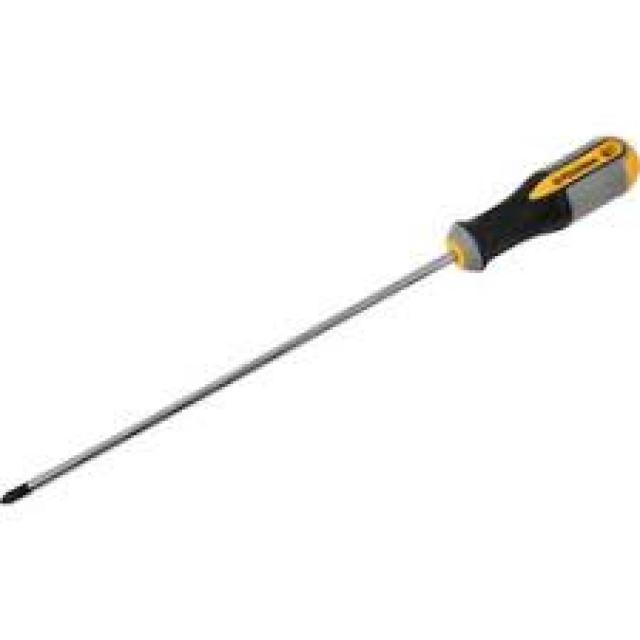screwdriver: (0, 126, 640, 543)
